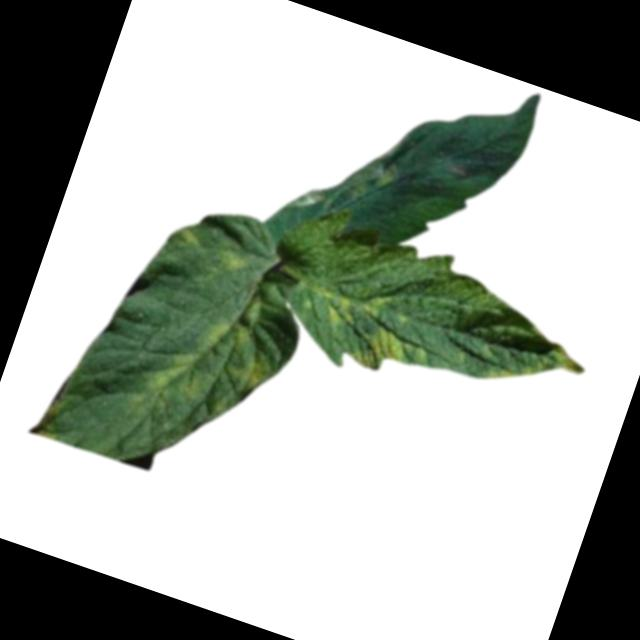Leaf_Mold: (287, 132, 400, 238), (126, 338, 209, 425), (349, 321, 417, 381), (227, 349, 279, 395), (313, 289, 359, 335), (542, 342, 590, 381), (207, 243, 248, 278), (360, 288, 395, 323), (173, 225, 200, 250)
